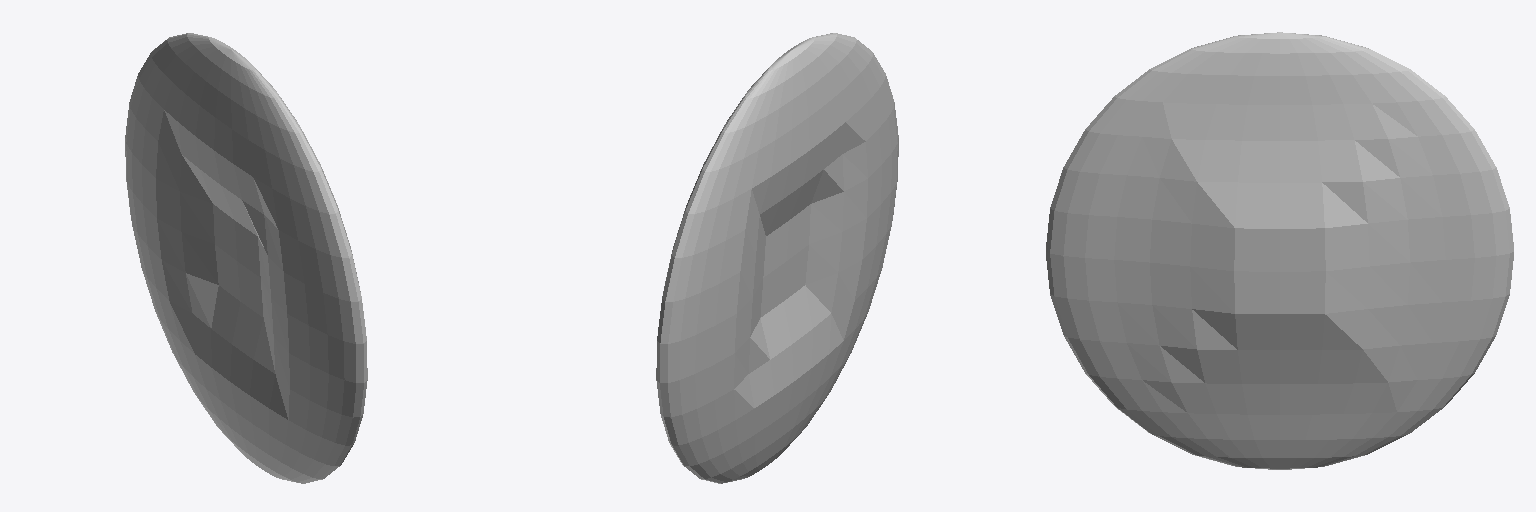
File: shield_000006.obj
3 views of the same model, side by side, from view 1: azimuth 30°, elevation 25°; view 2: azimuth 150°, elevation 25°; view 3: azimuth 270°, elevation 25° (orthographic).
Size of the model in its own units: 0.4136 by 1.99 by 2.